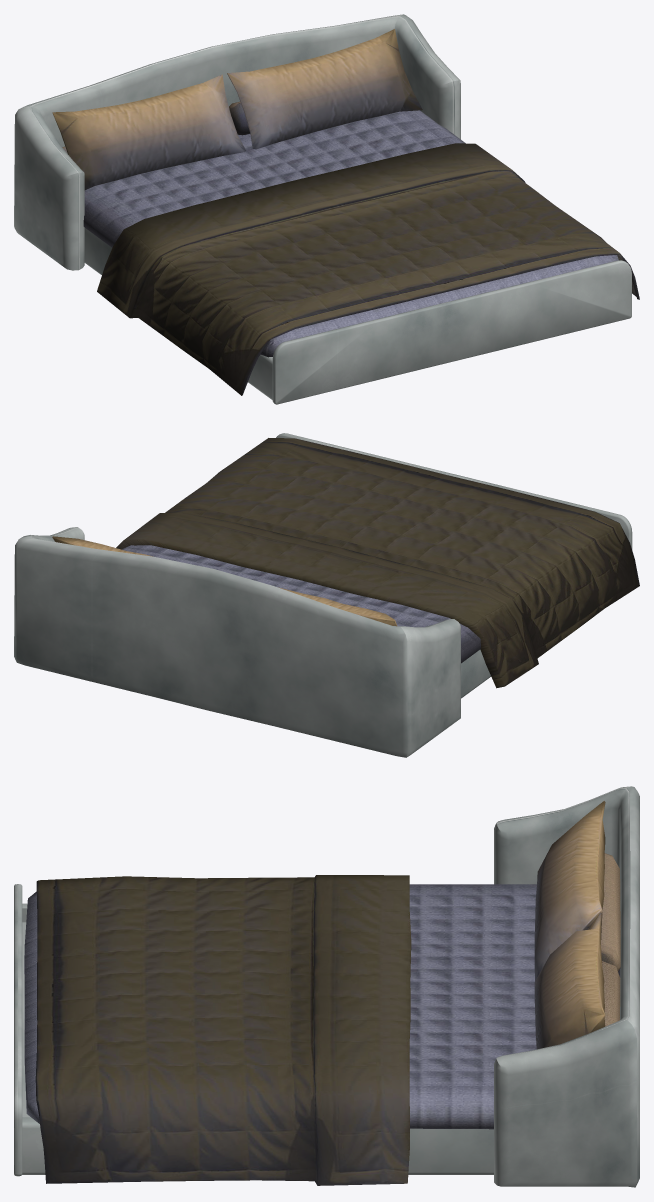
Rendered from Bed_4.fbx.
The picture shows the model from 3 angles, top to bottom: view 1: azimuth 30°, elevation 25°; view 2: azimuth 150°, elevation 25°; view 3: azimuth 270°, elevation 25°; orthographic projection. The views are drawn at different scales.
Parts seen in each view (by area): view 1: mattres bed 01.006, Cube; view 2: mattres bed 01.006, Cube; view 3: mattres bed 01.006, Cube.
Part boxes in pixels (box(x1,y1,x2,y2)): mattres bed 01.006: box(52, 29, 639, 395); Cube: box(14, 14, 631, 404); mattres bed 01.006: box(52, 438, 639, 688); Cube: box(14, 433, 632, 757); mattres bed 01.006: box(24, 801, 620, 1185); Cube: box(14, 786, 639, 1187).
Bounding box in the file's own units: 211 × 69.03 × 218.
Materials: 2 (2 with a texture image).
